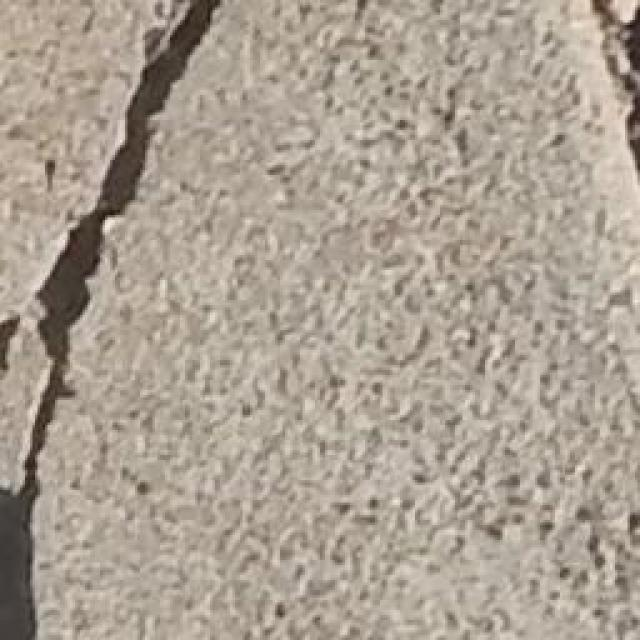concrete-crack: (0, 0, 229, 640), (589, 1, 640, 181), (0, 315, 20, 378)
